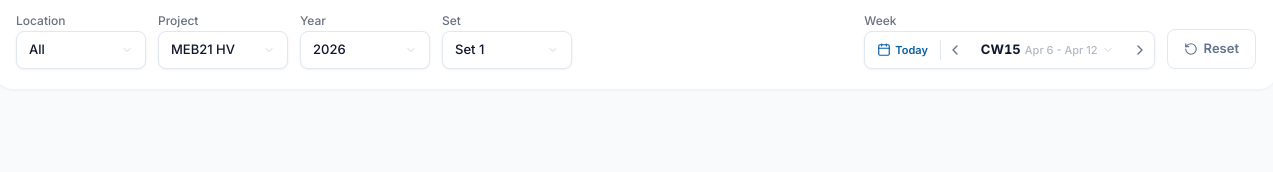
it: FilterBar — set filter › shows project sets in Set dropdown for a project that has sets
Open the Set dropdown (currently Set 1)
Click the button "Set 1" at (507, 50), box [442, 31, 572, 68]
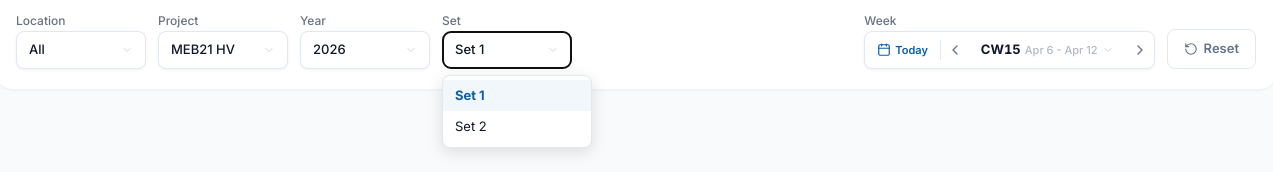
Expected: the button "Set 2" is shown, [443, 111, 591, 142]
Expected: the number of buttons "Set 1" is 2, [442, 31, 572, 68]; [443, 80, 591, 111]
